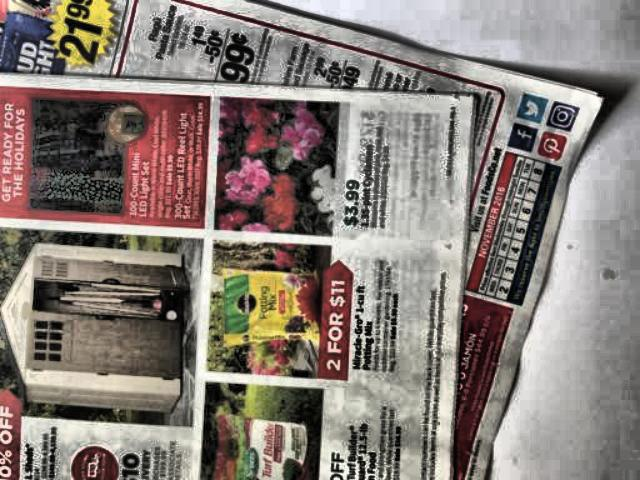Paper: (0, 0, 605, 480)
